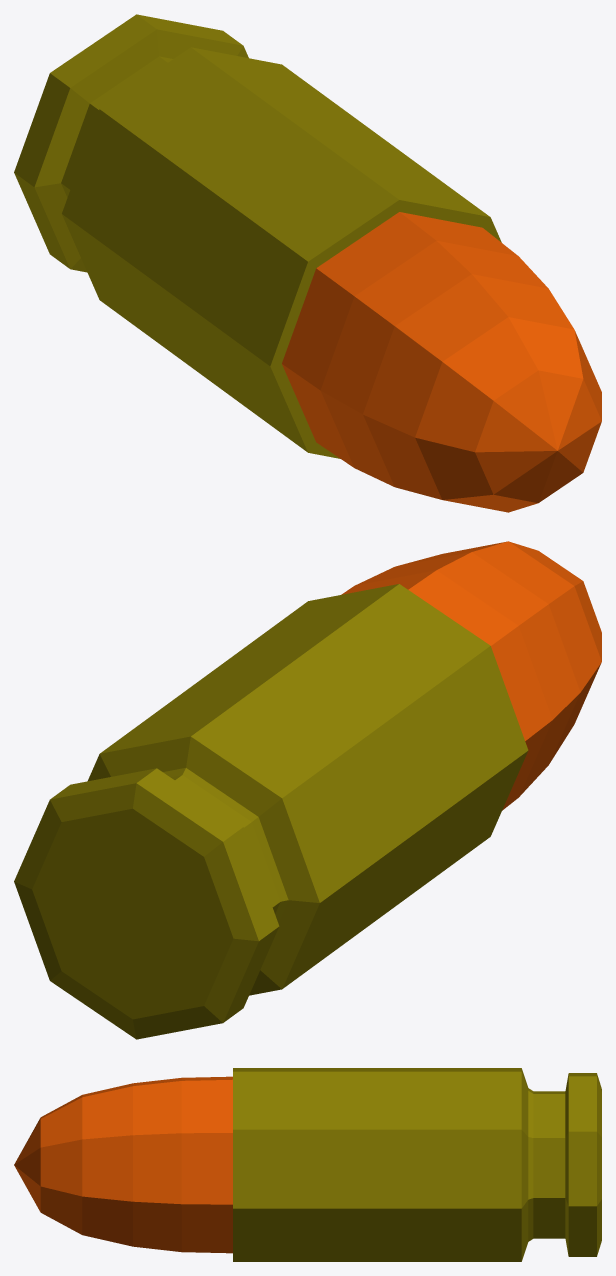
File: Bullet.fbx
The picture shows the model from 3 angles, top to bottom: view 1: azimuth 30°, elevation 25°; view 2: azimuth 150°, elevation 25°; view 3: azimuth 270°, elevation 25°; orthographic projection. The views are drawn at different scales.
Visible parts, largest first — view 1: bullet; view 2: bullet; view 3: bullet.
Boxes of the visible parts, x1,y1,x2,y2 form: bullet: (14,14,601,512); bullet: (14,541,601,1039); bullet: (14,1068,601,1261).
Bounding box in the file's own units: 200 × 200 × 570.
